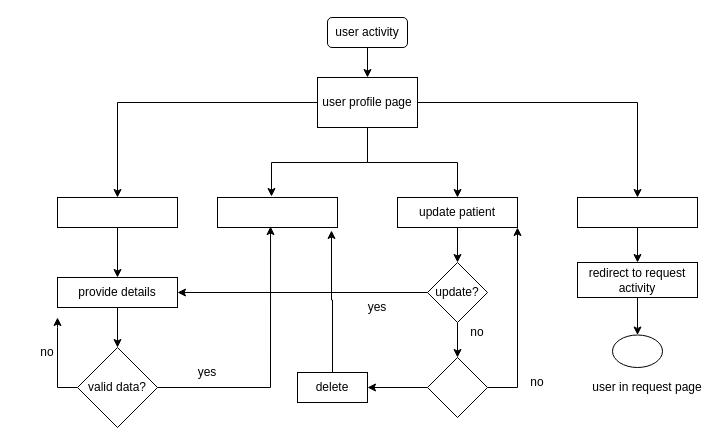
The diagram is 724 pixels wide and 445 high, and some of its shapes have lost their labels. The centre of each missing label's shape, as x and y in pixels:
create patient: pixel 117 212
delete?: pixel 457 387
Request consultation: pixel 637 212
show all patient: pixel 277 212
